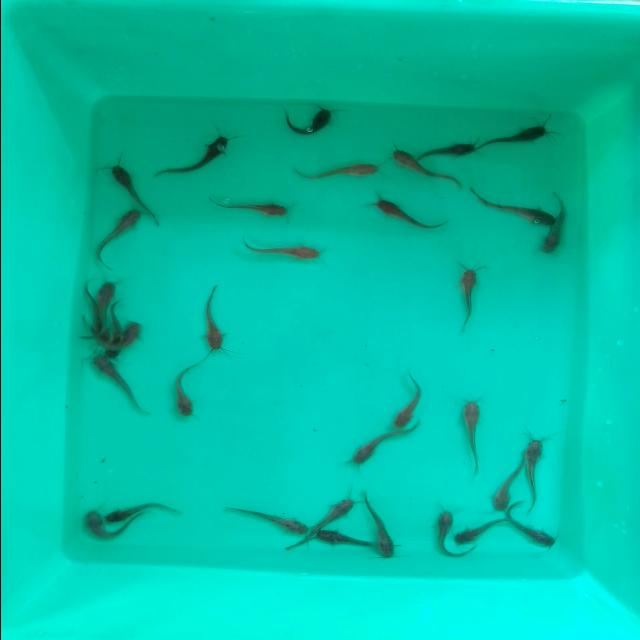lele: (341, 429, 422, 473), (163, 133, 237, 179), (159, 364, 209, 428), (94, 208, 148, 265), (107, 153, 153, 212), (520, 427, 552, 511), (94, 359, 140, 414), (458, 395, 485, 482), (276, 103, 332, 143), (108, 494, 182, 524), (372, 196, 445, 226), (366, 494, 400, 558), (390, 374, 430, 428), (225, 508, 307, 534), (240, 242, 334, 264), (479, 123, 558, 149), (200, 284, 230, 352), (480, 201, 558, 227), (544, 196, 572, 268), (486, 454, 522, 510), (293, 160, 384, 182), (512, 514, 564, 548), (212, 198, 292, 220), (461, 264, 486, 332), (67, 504, 111, 542), (455, 516, 513, 544), (315, 493, 361, 528), (394, 152, 440, 183), (417, 140, 477, 162), (116, 322, 160, 348), (434, 506, 455, 560), (312, 529, 368, 549), (80, 308, 108, 344), (96, 276, 120, 308), (109, 307, 128, 340)
